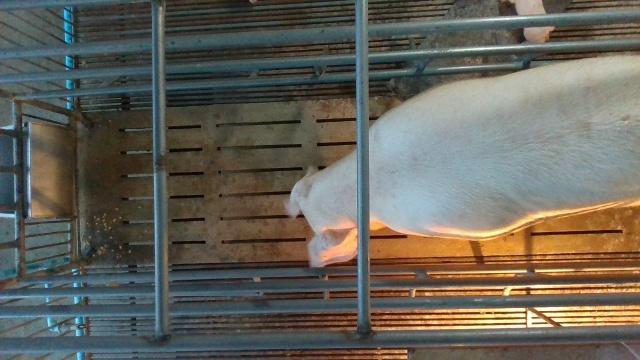piglet: (502, 0, 555, 45)
sow-stand: (287, 55, 640, 268)
